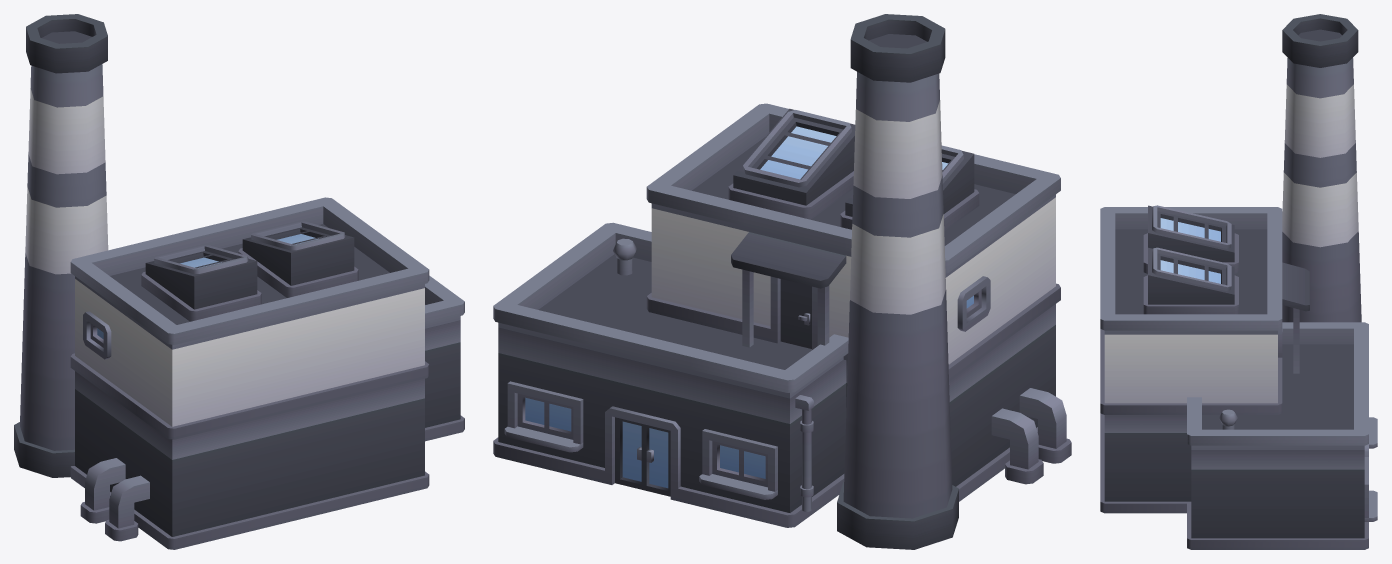
Rendered from building-f.glb.
3 renders of one model, left to right at view 1: azimuth 30°, elevation 25°; view 2: azimuth 150°, elevation 25°; view 3: azimuth 270°, elevation 25°, orthographic. The views are drawn at different scales.
Visible parts, largest first — view 1: building-f; view 2: building-f; view 3: building-f.
Part boxes in pixels (box(x1,y1,x2,y2)): building-f: box(14, 14, 464, 549); building-f: box(493, 14, 1071, 549); building-f: box(1100, 14, 1377, 549).
Bounding box in the file's own units: 1.79 × 1.92 × 1.28.
1 material, 1 textured.
